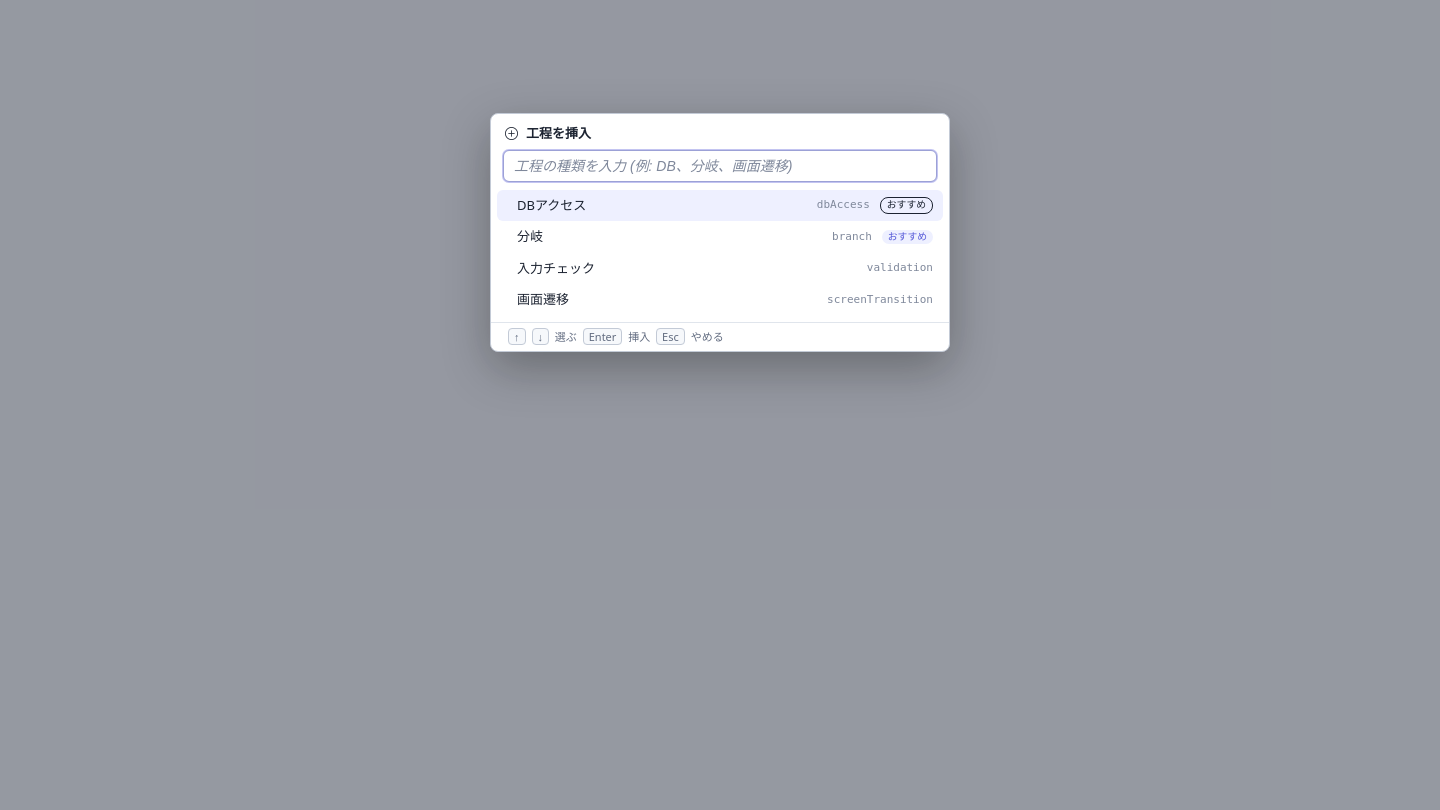
Test: StepInsertMenu — この後によく置かれる種類 › 入力すると、おすすめの並べ替えはせず、通常の絞り込みになる
In the dropdown with test id "step-insert-input": (720, 166) [503, 150, 937, 182], type "画面"
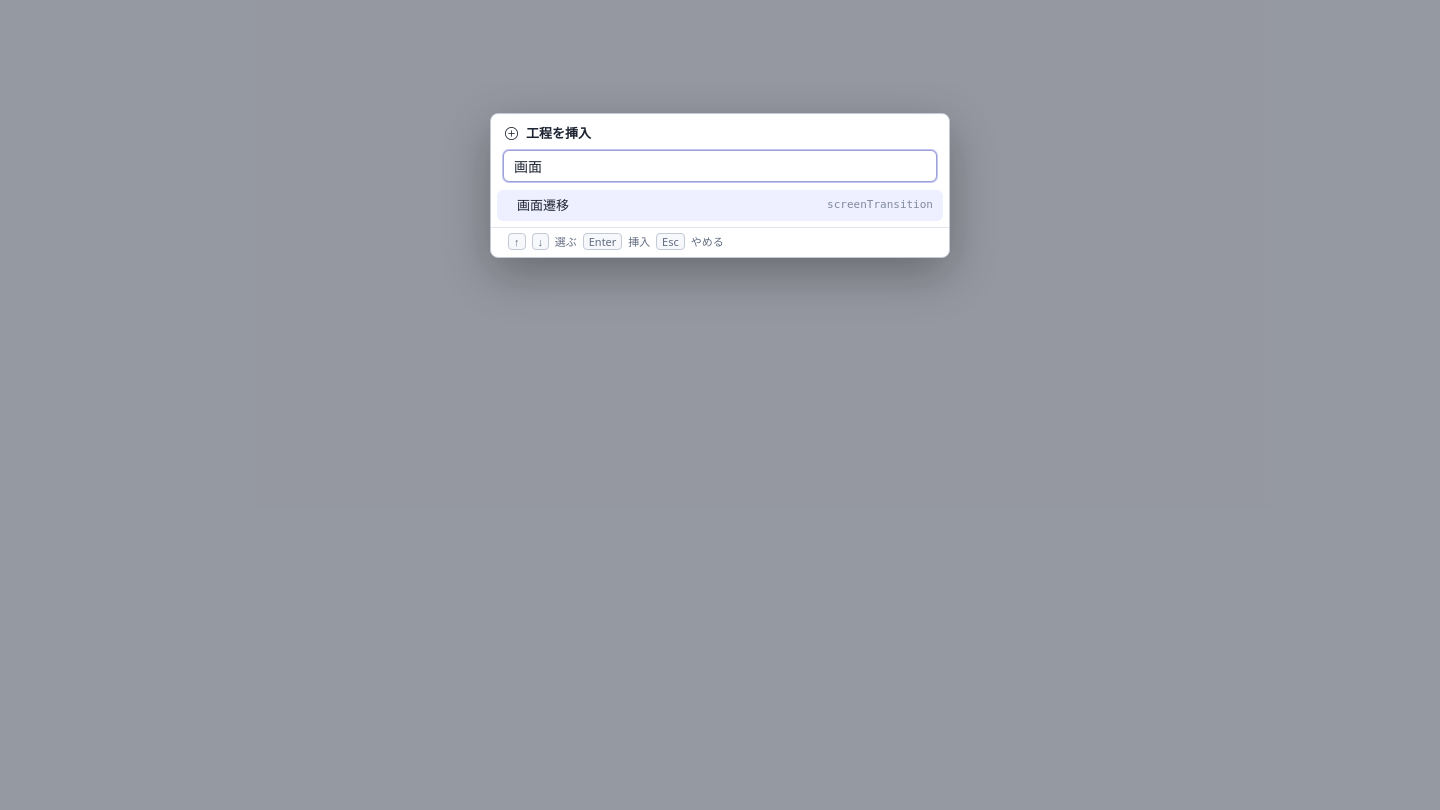
Expected: no elements with test id "step-insert-suggest" are shown
